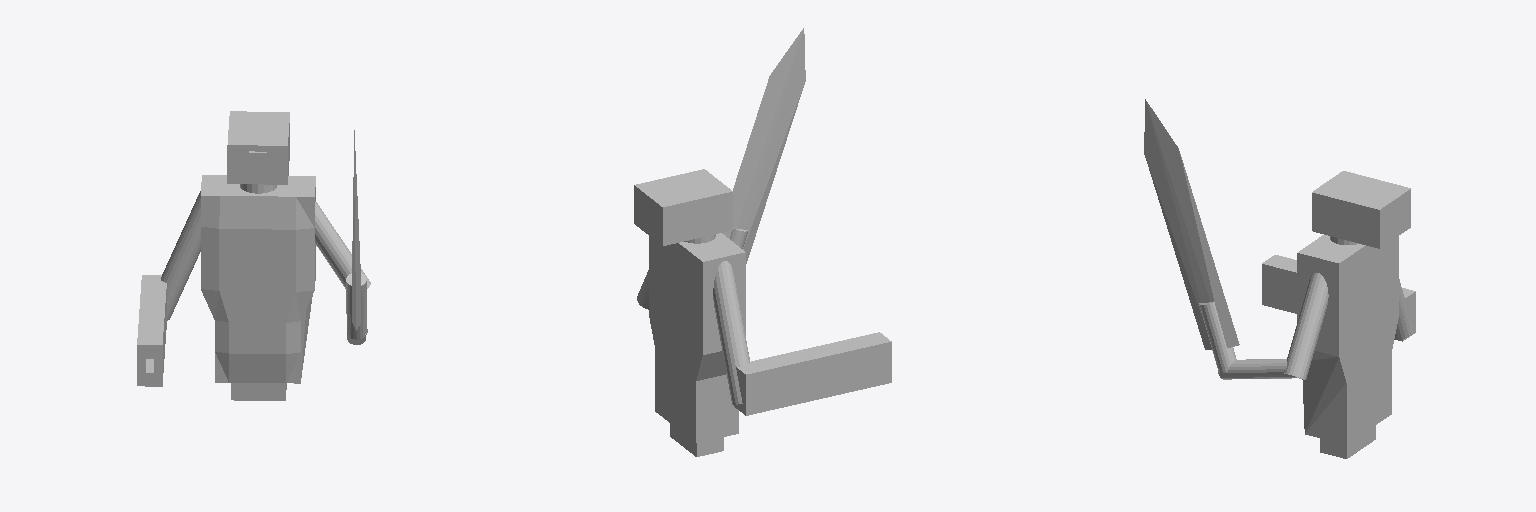
Rendered from Guard5_OBJ.obj.
3 renders of one model, left to right at view 1: azimuth 30°, elevation 25°; view 2: azimuth 150°, elevation 25°; view 3: azimuth 270°, elevation 25°, orthographic.
Parts seen in each view (by area): view 1: guard3 group; view 2: guard3 group; view 3: guard3 group.
Boxes of the visible parts, x1=… form: guard3 group: x1=137, y1=111, x2=370, y2=400; guard3 group: x1=634, y1=28, x2=891, y2=456; guard3 group: x1=1144, y1=99, x2=1415, y2=458.
Bounding box in the file's own units: 0.9727 × 1.32 × 0.9439.